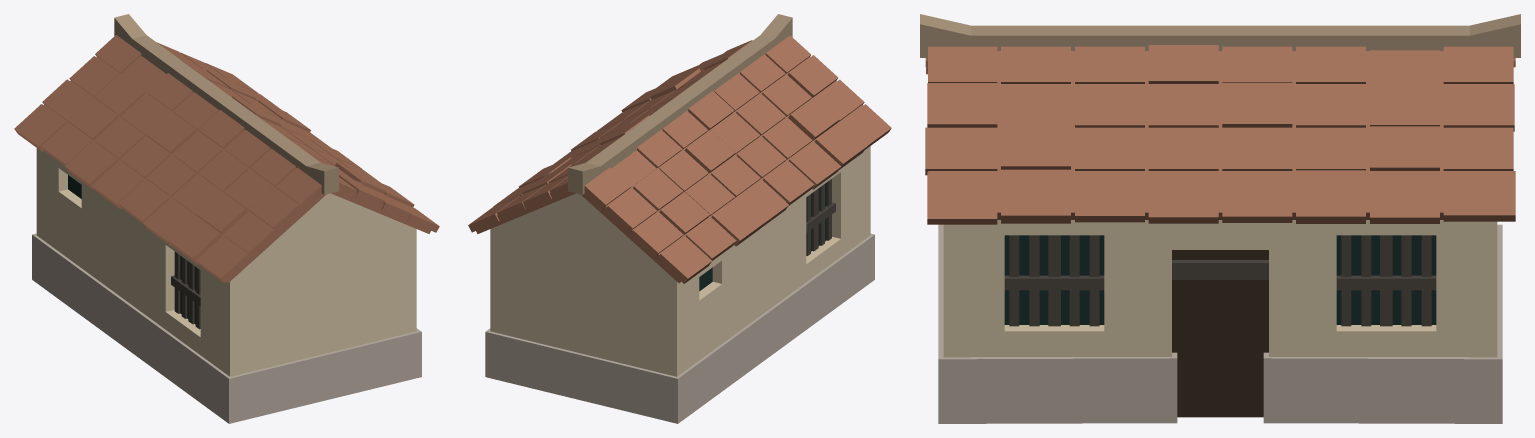
File: Building_mode_L2_Northhouse017.fbx
The picture shows the model from 3 angles, left to right: view 1: azimuth 30°, elevation 25°; view 2: azimuth 150°, elevation 25°; view 3: azimuth 270°, elevation 25°; orthographic projection. The views are drawn at different scales.
Visible parts, largest first — view 1: Building_mode_L2_Northhouse017; view 2: Building_mode_L2_Northhouse017; view 3: Building_mode_L2_Northhouse017.
Part boxes in pixels (box(x1,y1,x2,y2)): Building_mode_L2_Northhouse017: box(14, 14, 439, 423); Building_mode_L2_Northhouse017: box(468, 14, 891, 423); Building_mode_L2_Northhouse017: box(920, 14, 1520, 423).
Bounding box in the file's own units: 2.89 × 2.93 × 4.73.
